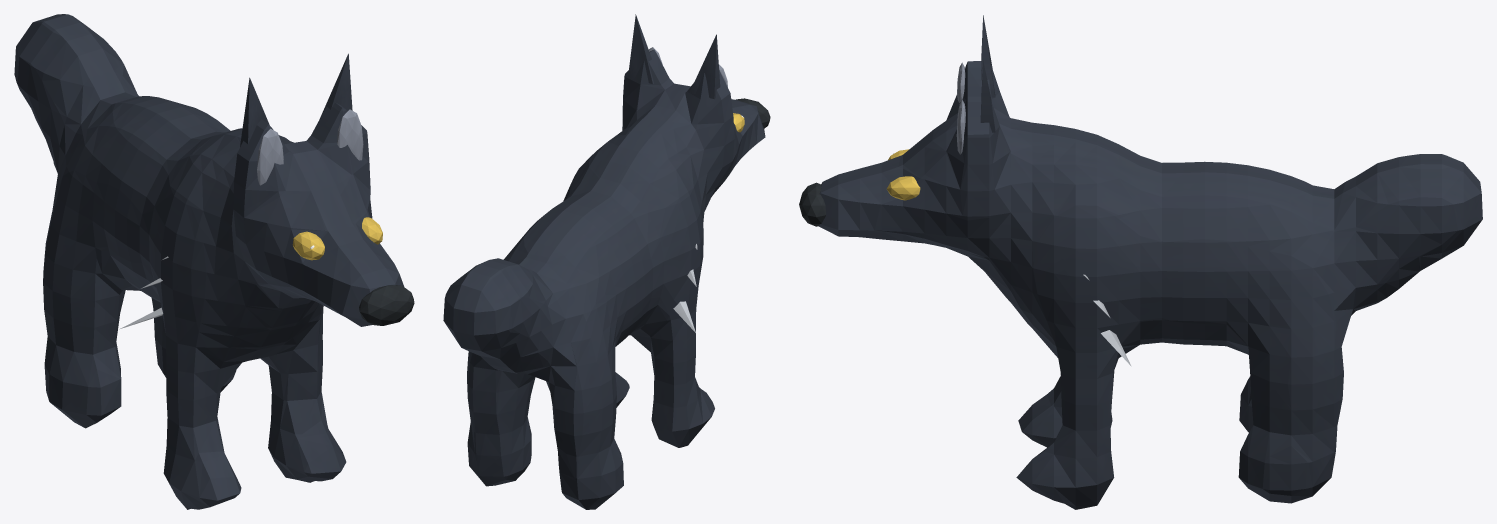
The model's file is alfawolf.glb.
3 renders of one model, left to right at view 1: azimuth 30°, elevation 25°; view 2: azimuth 150°, elevation 25°; view 3: azimuth 270°, elevation 25°, orthographic. The views are drawn at different scales.
Parts seen in each view (by area): view 1: world; view 2: world; view 3: world.
Boxes of the visible parts, x1,y1,x2,y2 form: world: (14,14,414,509); world: (443,14,770,509); world: (799,15,1482,509).
Bounding box in the file's own units: 0.55 × 1.2 × 1.67.
1 material, 1 textured.
